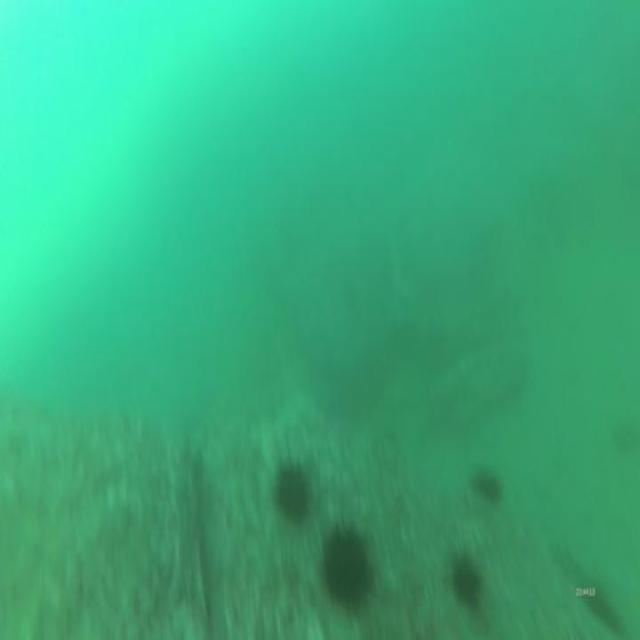echinus: (320, 518, 373, 615), (274, 452, 316, 531), (447, 539, 485, 610), (467, 463, 503, 506)
